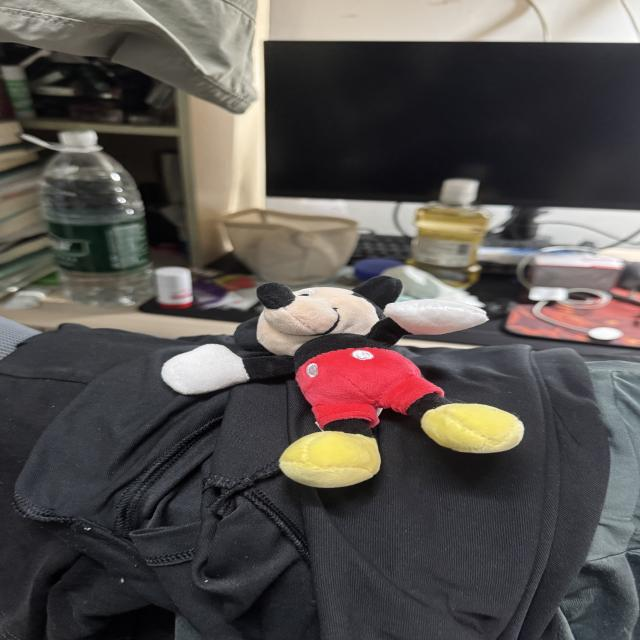mickey: (163, 276, 523, 487)
